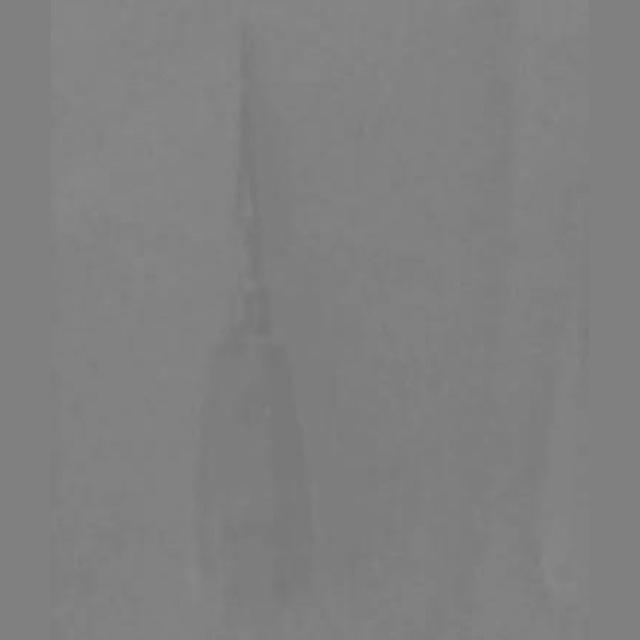botador: (191, 30, 314, 635)
